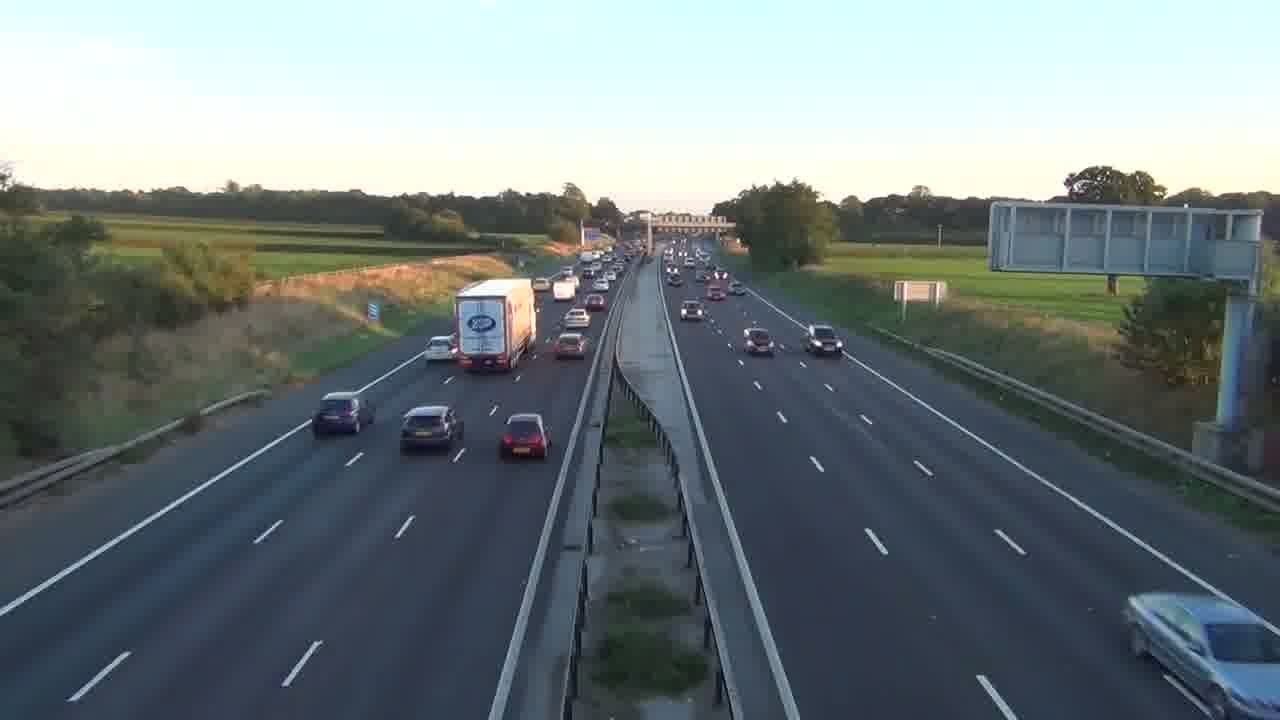car: (1123, 590, 1279, 718), (399, 403, 459, 452), (312, 390, 373, 437), (500, 412, 550, 459), (801, 323, 843, 357), (553, 332, 588, 360), (742, 326, 773, 356)
truck: (450, 277, 537, 372)
